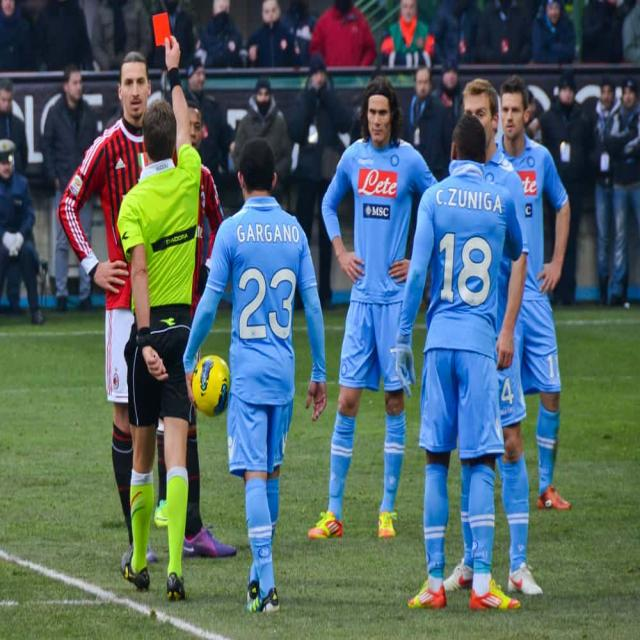red-card: (148, 9, 188, 88)
